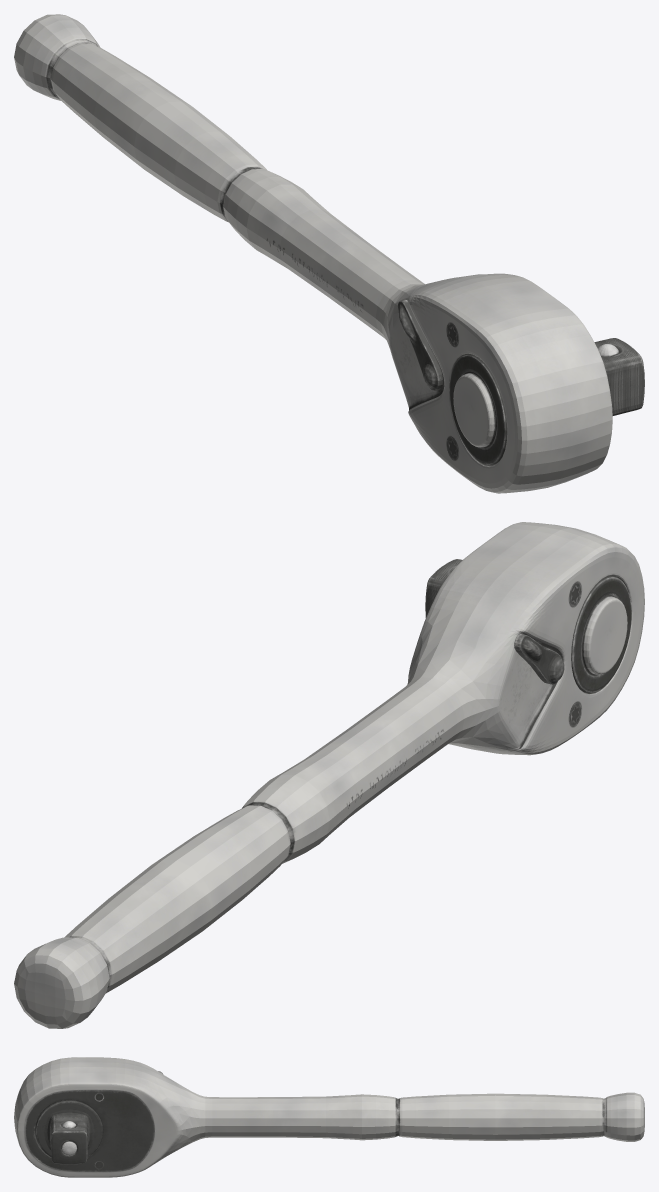
The model's file is ratchet_wrench.obj.
The picture shows the model from 3 angles, top to bottom: view 1: azimuth 30°, elevation 25°; view 2: azimuth 150°, elevation 25°; view 3: azimuth 270°, elevation 25°; orthographic projection. The views are drawn at different scales.
Bounding box in the file's own units: 0.043 × 0.0423 × 0.24.
Materials: 1 (1 with a texture image).
